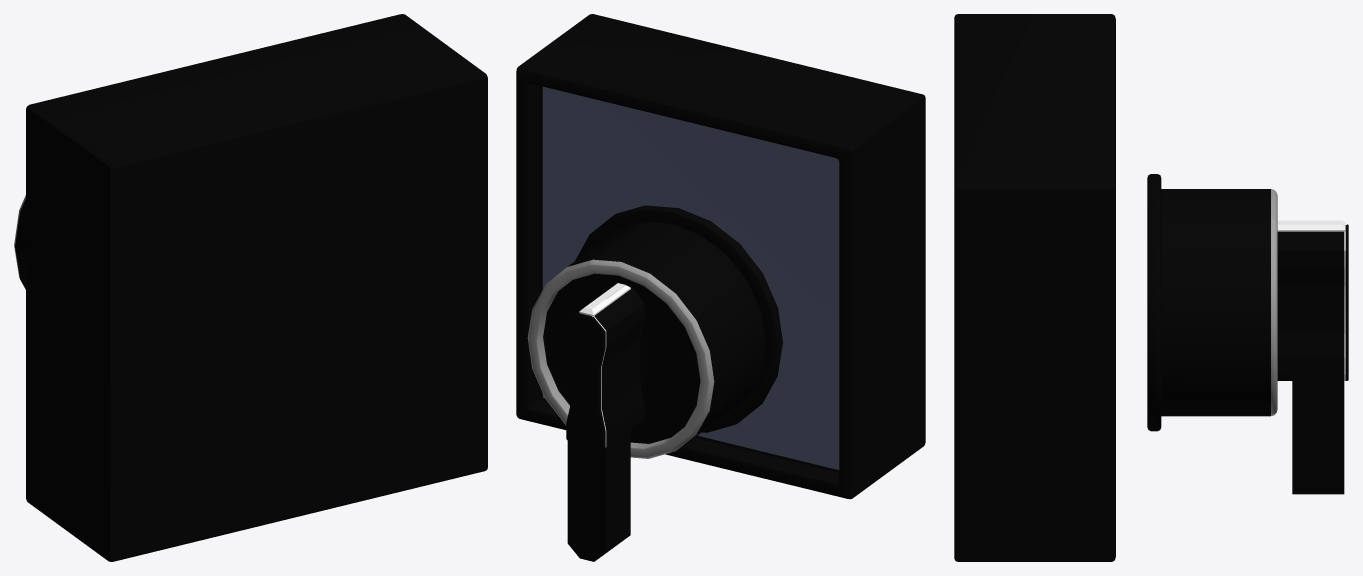
File: square box circle button.fbx
The picture shows the model from 3 angles, left to right: view 1: azimuth 30°, elevation 25°; view 2: azimuth 150°, elevation 25°; view 3: azimuth 270°, elevation 25°; orthographic projection. The views are drawn at different scales.
Visible parts, largest first — view 1: pCube8, pCylinder37; view 2: pCube8, pCylinder37; view 3: pCube8, pCylinder37.
Boxes of the visible parts, x1,y1,x2,y2 form: pCube8: (26,14,487,561); pCylinder37: (14,195,25,289); pCube8: (516,14,925,499); pCylinder37: (527,205,782,561); pCube8: (954,14,1115,561); pCylinder37: (1147,174,1348,494).
Size of the model in its own units: 0.4094 by 0.4314 by 0.3896.
